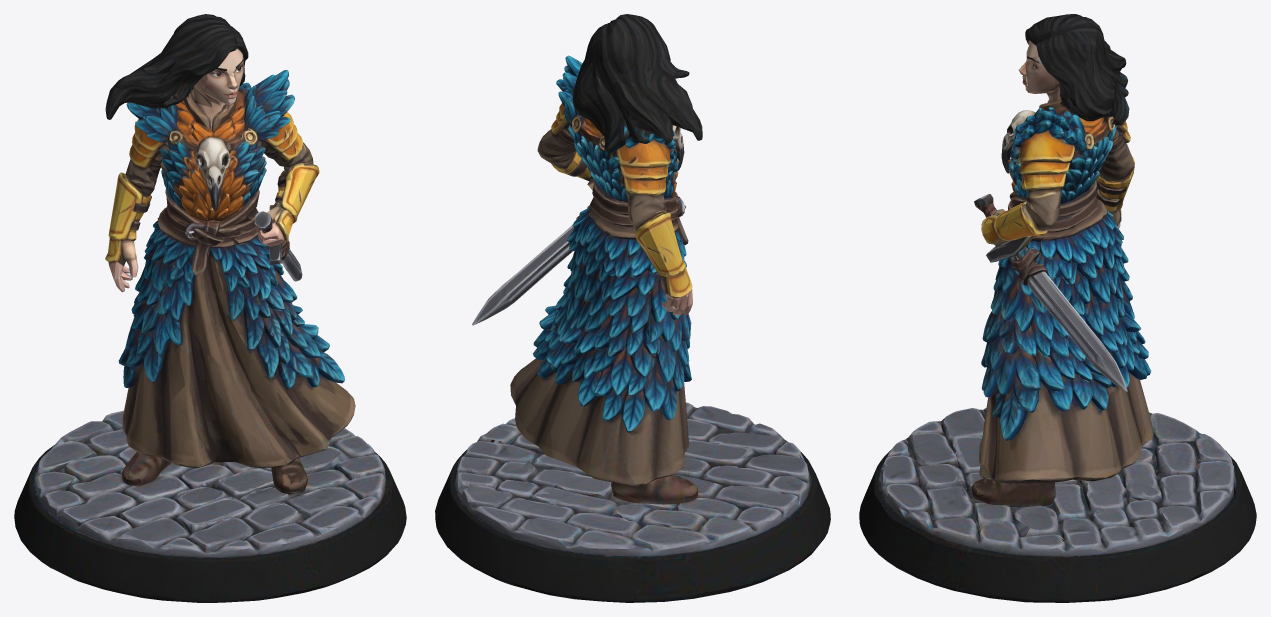
The model's file is helga.glb.
The picture shows the model from 3 angles, left to right: view 1: azimuth 30°, elevation 25°; view 2: azimuth 150°, elevation 25°; view 3: azimuth 270°, elevation 25°; orthographic projection.
Visible parts, largest first — view 1: output_unwrapped; view 2: output_unwrapped; view 3: output_unwrapped.
Boxes of the visible parts, x1,y1,x2,y2 form: output_unwrapped: [14, 14, 406, 602]; output_unwrapped: [435, 14, 830, 602]; output_unwrapped: [859, 14, 1256, 602].
Size of the model in its own units: 1.35 by 1.9 by 1.36.
1 material, 1 textured.
